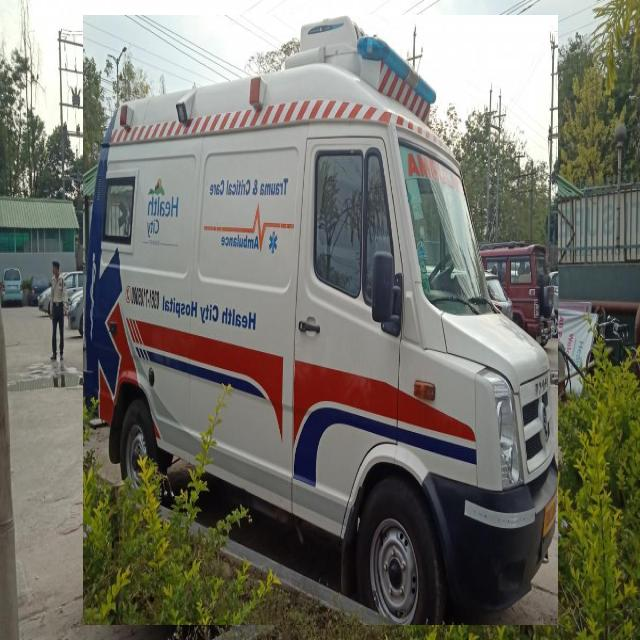car: (88, 244, 162, 344)
emergency: (84, 15, 558, 625)
